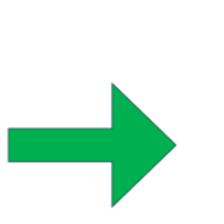right: (4, 78, 183, 212)
